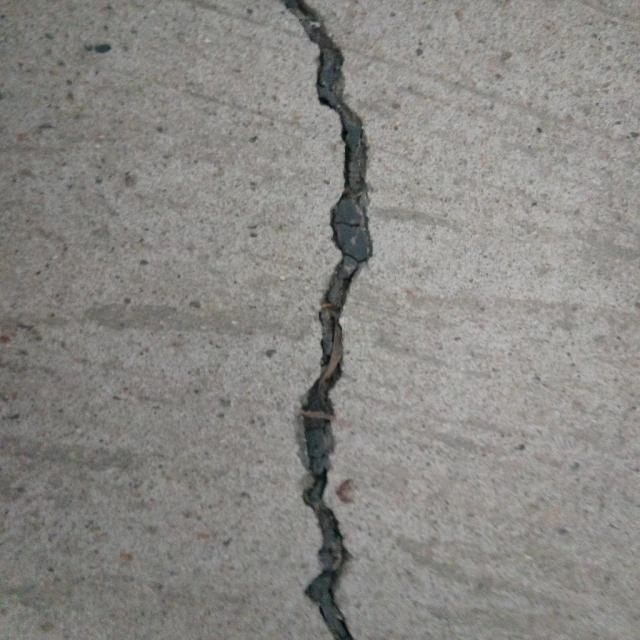cracks: (274, 0, 390, 640)
